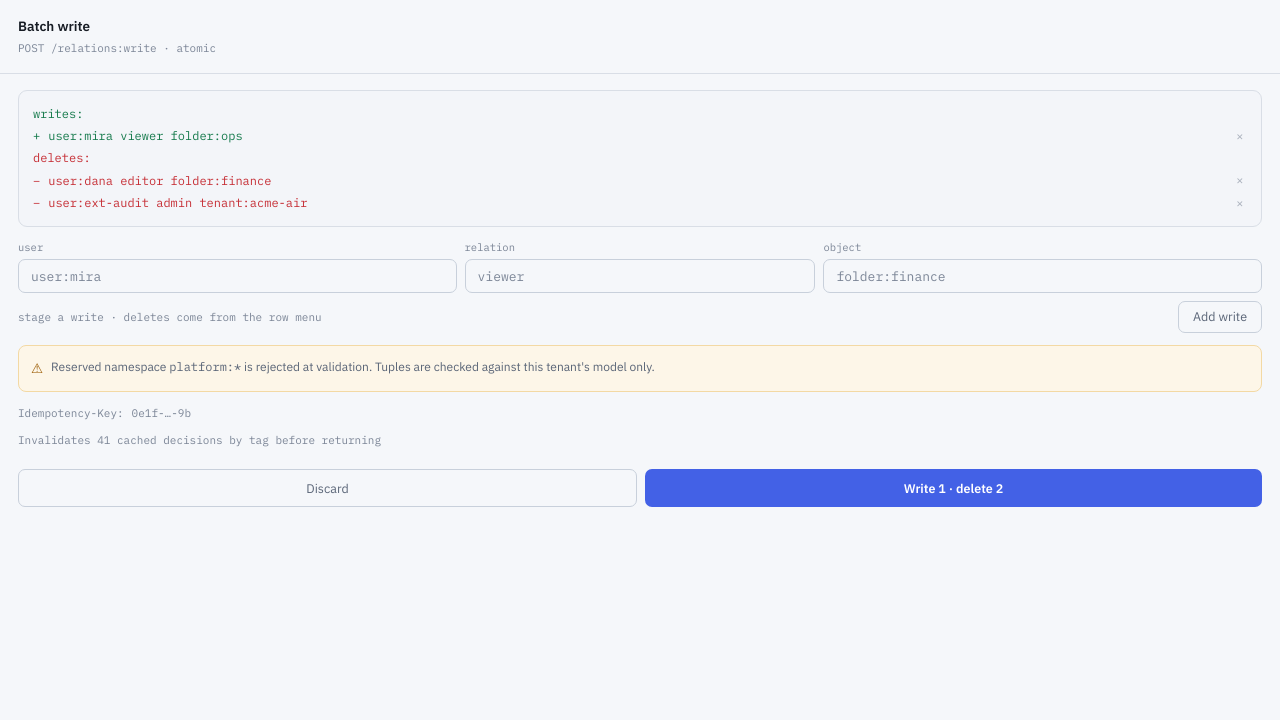
Test case: BatchWritePanel › posts the batch with the batch Idempotency-Key and reports the result
Step 1. Click the button "Write 1 · delete 2" → [954, 488], box [645,470,1262,508]
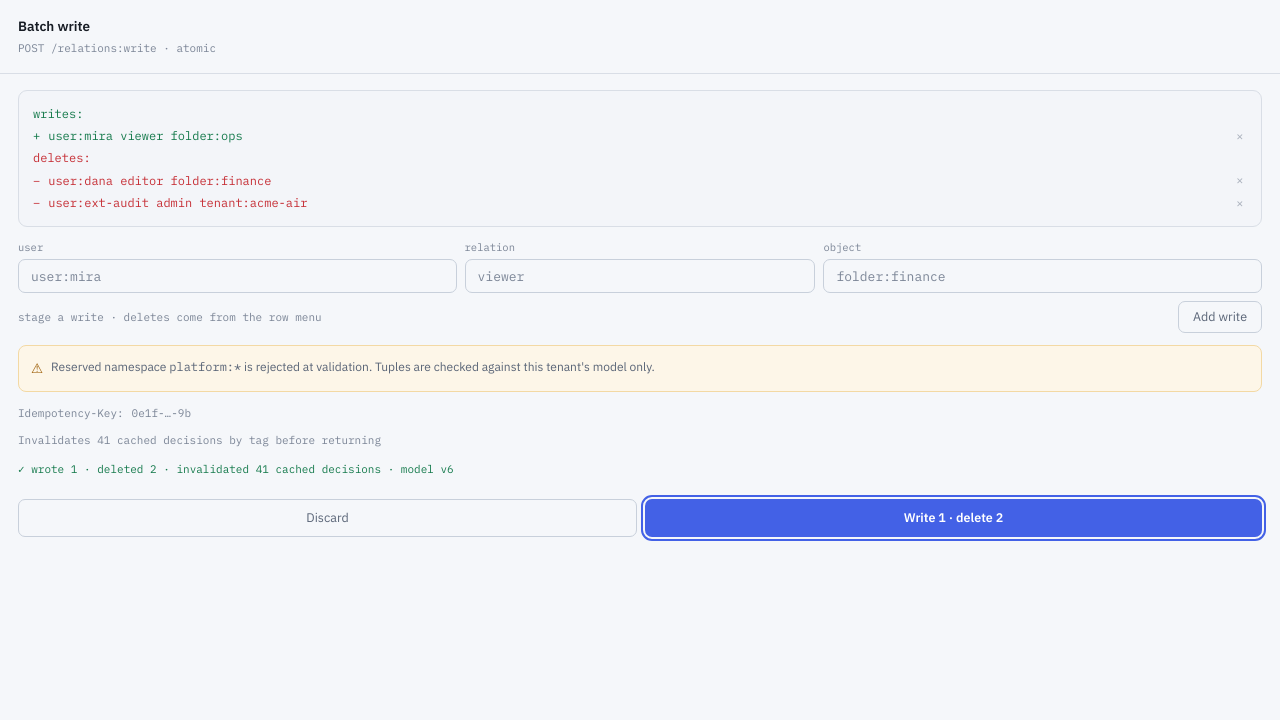
Now the message shows "wrote 1 · deleted 2 · invalidated 41 cached decisions", box [18,462,454,476]
